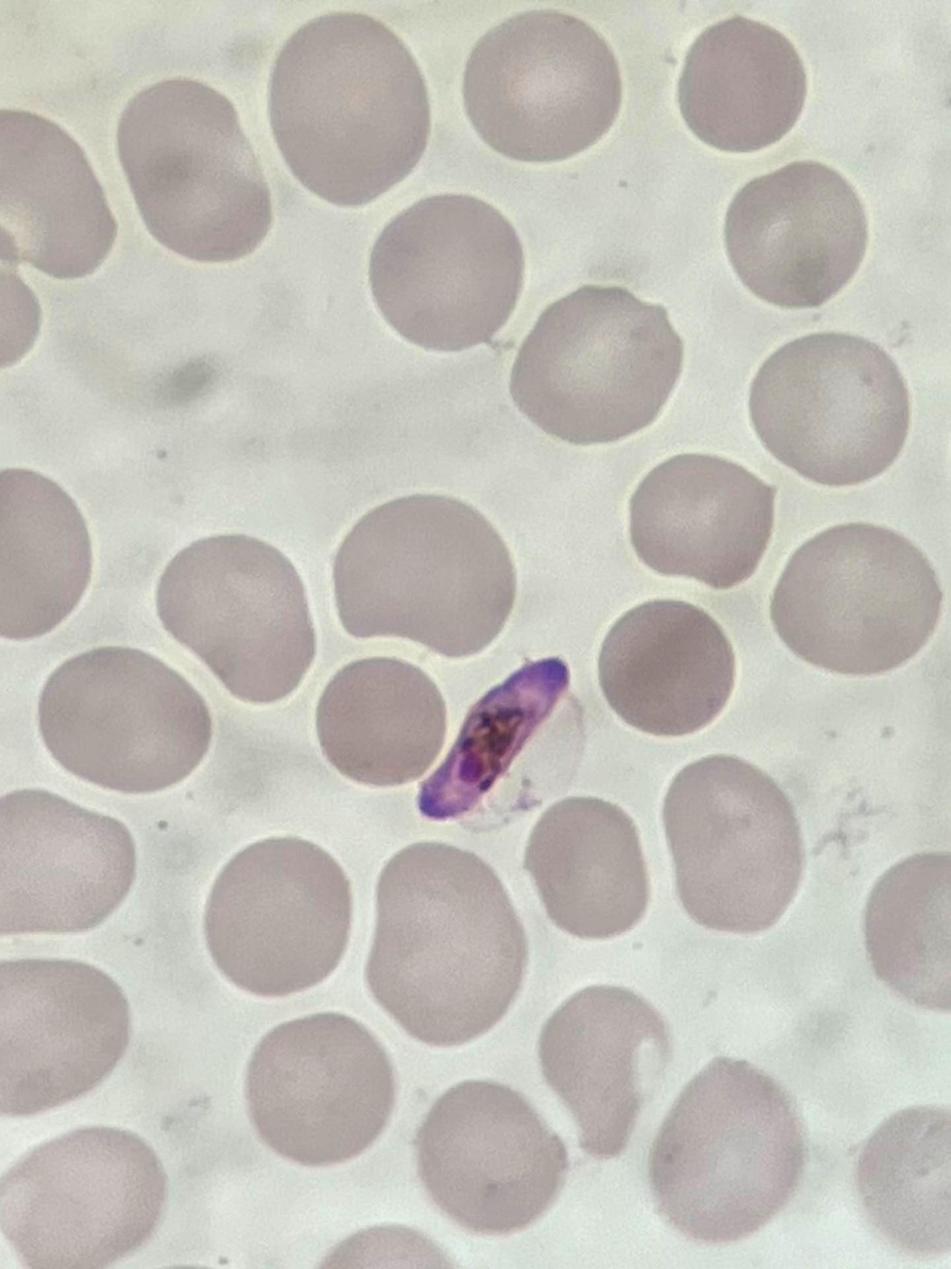Infected: (415, 653, 591, 833)
Uninfected: (365, 840, 531, 1048), (331, 494, 518, 659), (272, 13, 431, 206), (644, 1058, 806, 1245), (507, 280, 683, 447), (118, 78, 277, 262), (160, 531, 317, 704), (38, 646, 217, 797), (773, 523, 946, 675), (749, 329, 910, 484), (663, 757, 802, 934), (462, 12, 624, 163), (370, 192, 525, 349), (0, 1123, 166, 1269), (536, 982, 671, 1160), (201, 837, 352, 996), (414, 1079, 566, 1236), (243, 1011, 398, 1163), (725, 159, 870, 311), (0, 785, 138, 937), (0, 954, 131, 1114), (627, 453, 779, 584), (0, 109, 119, 276), (597, 597, 736, 739), (312, 654, 446, 788), (677, 16, 808, 151), (528, 799, 650, 937), (853, 1103, 951, 1256)
